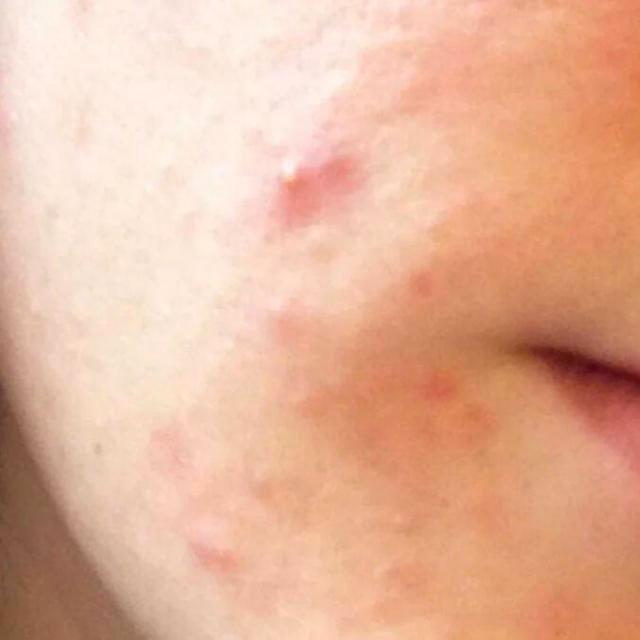Pimples: (264, 136, 354, 222), (181, 524, 233, 560), (276, 160, 303, 192)
